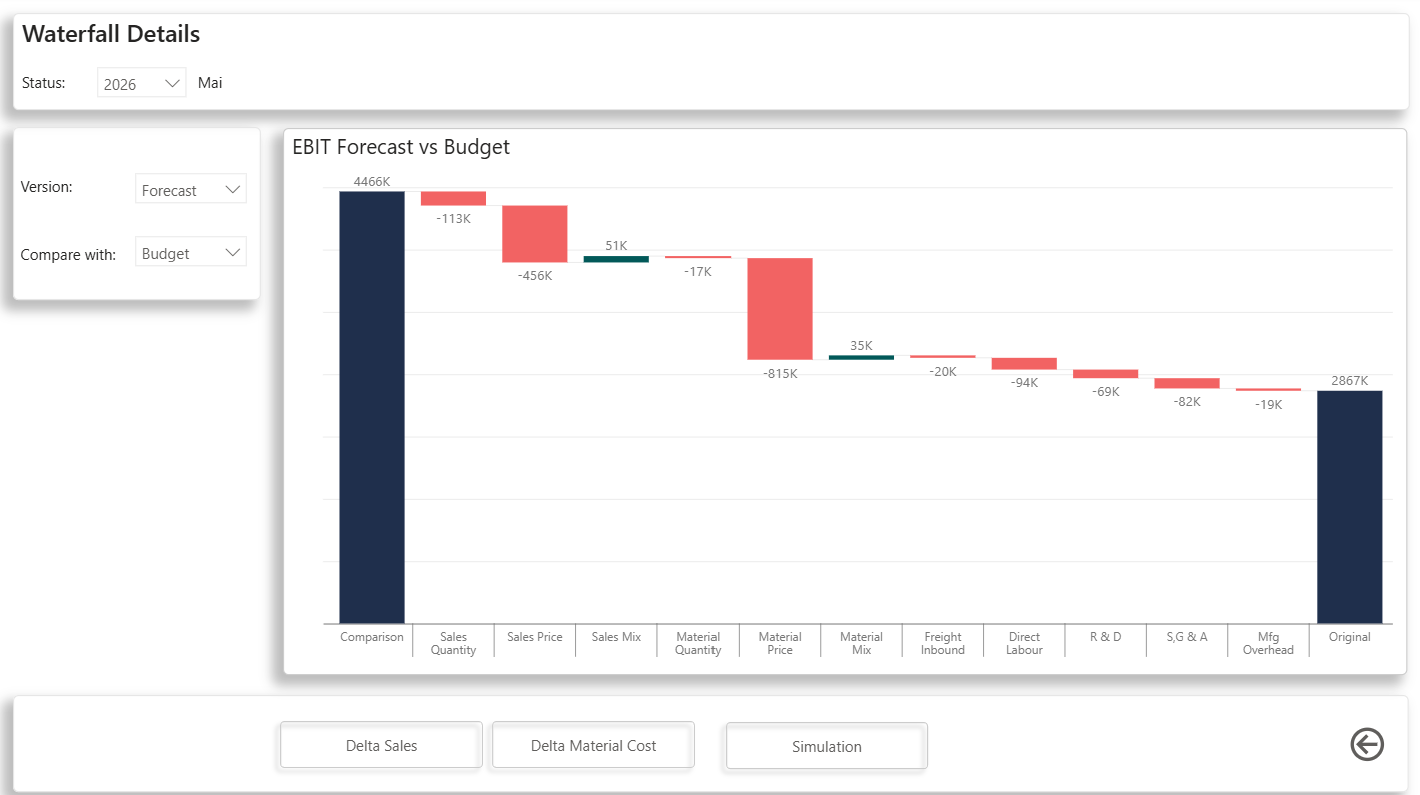

What the dashboard file says about the page in this screenshot:
{"tool":"powerbi","page":{"name":"Waterfall Details","canvas":[1280,720],"ordinal":1},"visuals":[{"type":"textbox","title":"Waterfall Details","box":[15,15,1249.9,87.1],"z":0},{"type":"cardVisual","title":"Card Month","fields":{"Data":["fact_calculated.Last Actual Month Name"]},"box":[165.5,53.8,110,45],"z":1000},{"type":"slicer","title":"Slicer Year","fields":{"Values":["dim_date2.Date Hierarchie.Year"]},"box":[80.5,53.8,100,45],"z":2000},{"type":"shape","title":"Box Filter","box":[15.3,117.7,221.9,155],"z":3000},{"type":"textbox","title":"Text Version","box":[17,156.8,67,31.5],"z":4000},{"type":"textbox","title":"Text Comparison","box":[17,217.4,105,30.9],"z":5000},{"type":"slicer","title":"Slicer Compare","fields":{"Values":["Comparison Version.Version"]},"box":[115,205.2,120,45],"z":6000},{"type":"slicer","title":"Slicer Original Version","fields":{"Values":["Original Version.Version"]},"box":[115,148.3,120,45],"z":7000},{"type":"SimpleWaterfall","fields":{"category":["helper_Waterfall2Bridge.Bridge_Component"],"measure":["Metrics.mWaterfall2BridgeValue"]},"box":[257.5,117.8,1006.1,490.3],"z":8000},{"type":"shape","title":"Box Navigation","box":[15,626.3,1249,86.7],"z":9000},{"type":"actionButton","title":"Delta Sales by PG","box":[245.6,640,199.7,60.1],"z":10000},{"type":"actionButton","title":"Delta Material Cost","box":[435.2,640,199.7,60.1],"z":11000},{"type":"actionButton","title":"Zurück","box":[1207,650,40,40.2],"z":12000},{"type":"actionButton","title":"Simulation","box":[644,640.9,199,60.3],"z":13000}]}

Visuals, with their boxes in screenshot pixels (x1, y1, x2, y2), scaled from the page's 1280x720 canvas onto the 1420x795 screenshot:
"Waterfall Details" textbox: locate(17, 17, 1403, 113)
"Card Month" cardVisual: locate(184, 59, 306, 109)
"Slicer Year" slicer: locate(89, 59, 200, 109)
"Box Filter" shape: locate(17, 130, 263, 301)
"Text Version" textbox: locate(19, 173, 93, 208)
"Text Comparison" textbox: locate(19, 240, 135, 274)
"Slicer Compare" slicer: locate(128, 227, 261, 276)
"Slicer Original Version" slicer: locate(128, 164, 261, 213)
SimpleWaterfall - helper_Waterfall2Bridge.Bridge_Component x Metrics.mWaterfall2BridgeValue: locate(286, 130, 1402, 671)
"Box Navigation" shape: locate(17, 692, 1402, 787)
"Delta Sales by PG" actionButton: locate(272, 707, 494, 773)
"Delta Material Cost" actionButton: locate(483, 707, 704, 773)
"Zurück" actionButton: locate(1339, 718, 1383, 762)
"Simulation" actionButton: locate(714, 708, 935, 774)
